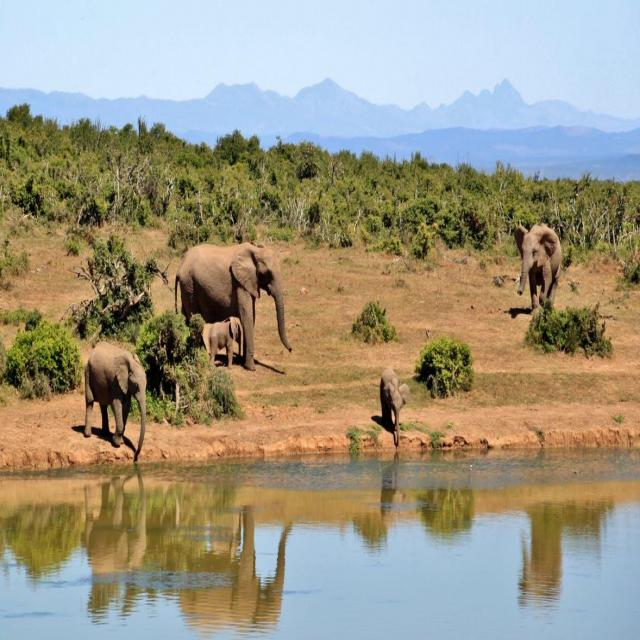Elephant: (173, 239, 297, 357), (81, 340, 151, 460), (512, 218, 566, 314), (374, 365, 410, 447), (204, 311, 246, 374)
